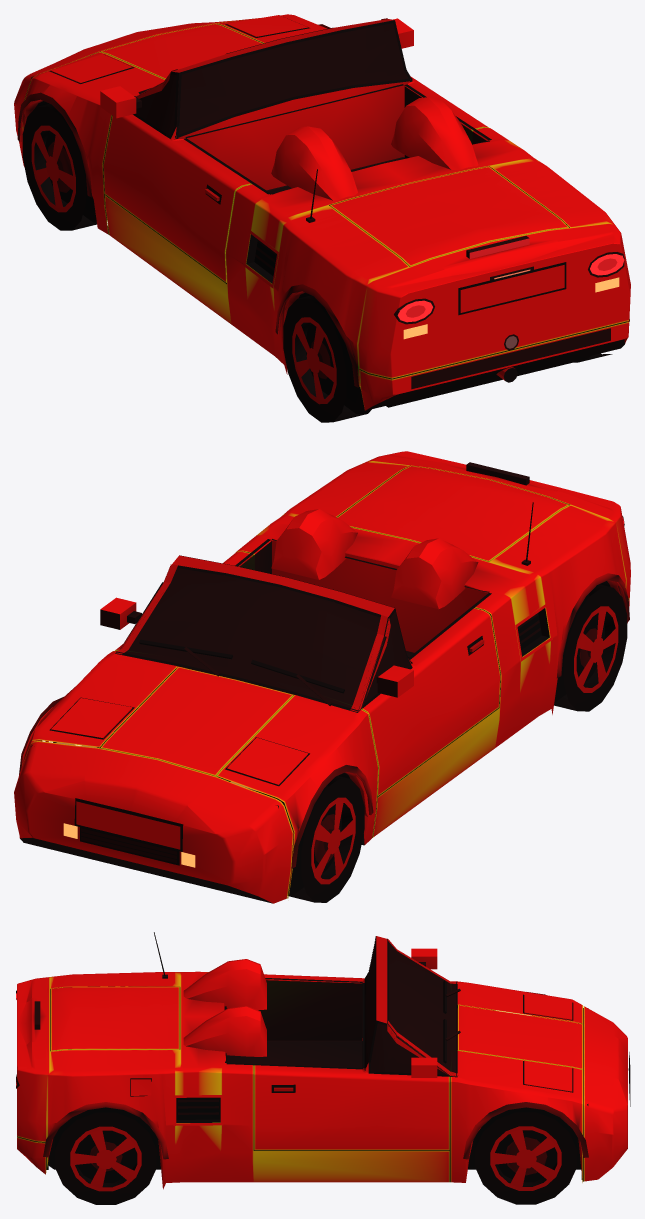
Rendered from body.glb.
3 renders of one model, top to bottom at view 1: azimuth 30°, elevation 25°; view 2: azimuth 150°, elevation 25°; view 3: azimuth 270°, elevation 25°, orthographic. The views are drawn at different scales.
Parts seen in each view (by area): view 1: body, door_l, trunk, glass_windshield, wheel_rl_mesh, wheel_fl_mesh, fender_fl, hood, hump_l, hump_r, plate_r, bumper_r (+16 smaller); view 2: body, bumper_f, glass_windshield, door_l, trunk, hood, fender_fl, wheel_fl_mesh, wheel_rl_mesh, fender_fr, hump_l, hump_r (+14 smaller); view 3: body, door_r, trunk, wheel_rr_mesh, wheel_fr_mesh, fender_fr, bumper_f, glass_windshield, hood, hump_r, hump_l, arch_lips (+14 smaller).
Part boxes in pixels (<box>): body: <box>105,19,630,386</box>; door_l: <box>103,114,251,282</box>; trunk: <box>330,166,569,266</box>; glass_windshield: <box>176,21,408,134</box>; wheel_rl_mesh: <box>283,295,371,422</box>; wheel_fl_mesh: <box>22,103,106,230</box>; fender_fl: <box>22,52,164,234</box>; hood: <box>101,23,262,79</box>; hump_l: <box>271,126,357,204</box>; hump_r: <box>391,97,478,174</box>; plate_r: <box>458,262,566,315</box>; bumper_r: <box>359,321,629,410</box>; body: <box>172,451,630,837</box>; bumper_f: <box>14,741,293,903</box>; glass_windshield: <box>115,568,411,712</box>; door_l: <box>362,608,500,796</box>; trunk: <box>337,466,569,561</box>; hood: <box>100,667,293,776</box>; fender_fl: <box>217,695,378,898</box>; wheel_fl_mesh: <box>280,776,364,902</box>; wheel_rl_mesh: <box>554,584,627,711</box>; fender_fr: <box>22,650,177,764</box>; hump_l: <box>391,538,478,609</box>; hump_r: <box>271,509,357,579</box>; body: <box>17,936,449,1189</box>; door_r: <box>254,1063,449,1150</box>; trunk: <box>50,987,179,1051</box>; wheel_rr_mesh: <box>55,1107,156,1204</box>; wheel_fr_mesh: <box>475,1107,576,1204</box>; fender_fr: <box>449,1050,582,1182</box>; bumper_f: <box>581,1006,627,1181</box>; glass_windshield: <box>365,936,456,1076</box>; hood: <box>458,1005,582,1069</box>; hump_r: <box>183,1006,266,1056</box>; hump_l: <box>183,959,266,1009</box>; arch_lips: <box>43,992,588,1159</box>.
Size of the model in its own units: 1.49 by 1.05 by 3.33.
